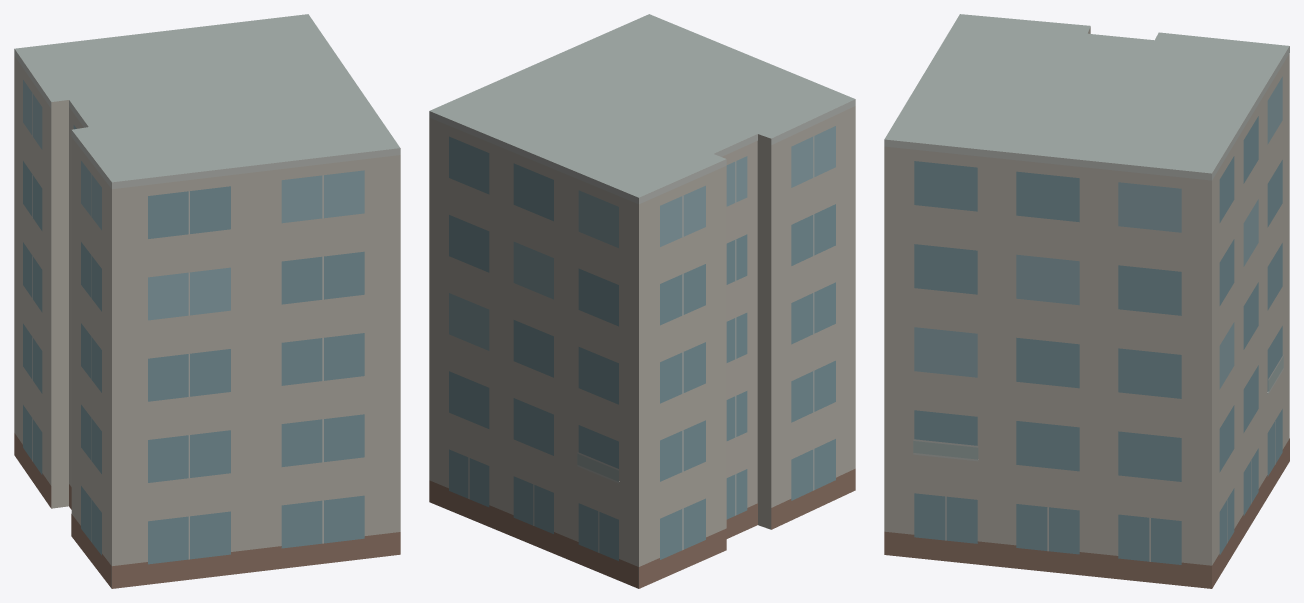
The model's file is survey-upis-32999058.glb.
3 views of the same model, side by side, from view 1: azimuth 30°, elevation 25°; view 2: azimuth 150°, elevation 25°; view 3: azimuth 270°, elevation 25° (orthographic). The views are drawn at different scales.
Visible parts, largest first — view 1: survey-upis-32999058.tmp; view 2: survey-upis-32999058.tmp; view 3: survey-upis-32999058.tmp.
Boxes of the visible parts, x1,y1,x2,y2 form: survey-upis-32999058.tmp: (14,14,400,588); survey-upis-32999058.tmp: (429,14,855,588); survey-upis-32999058.tmp: (884,14,1289,588).
Bounding box in the file's own units: 11.87 × 14.4 × 12.75.
